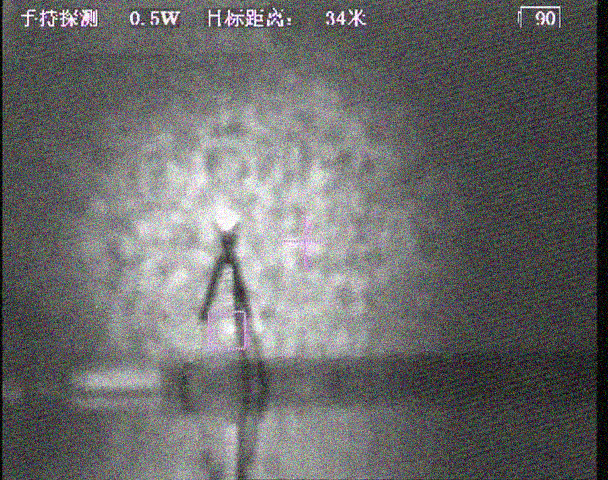my: (213, 206, 239, 231)
